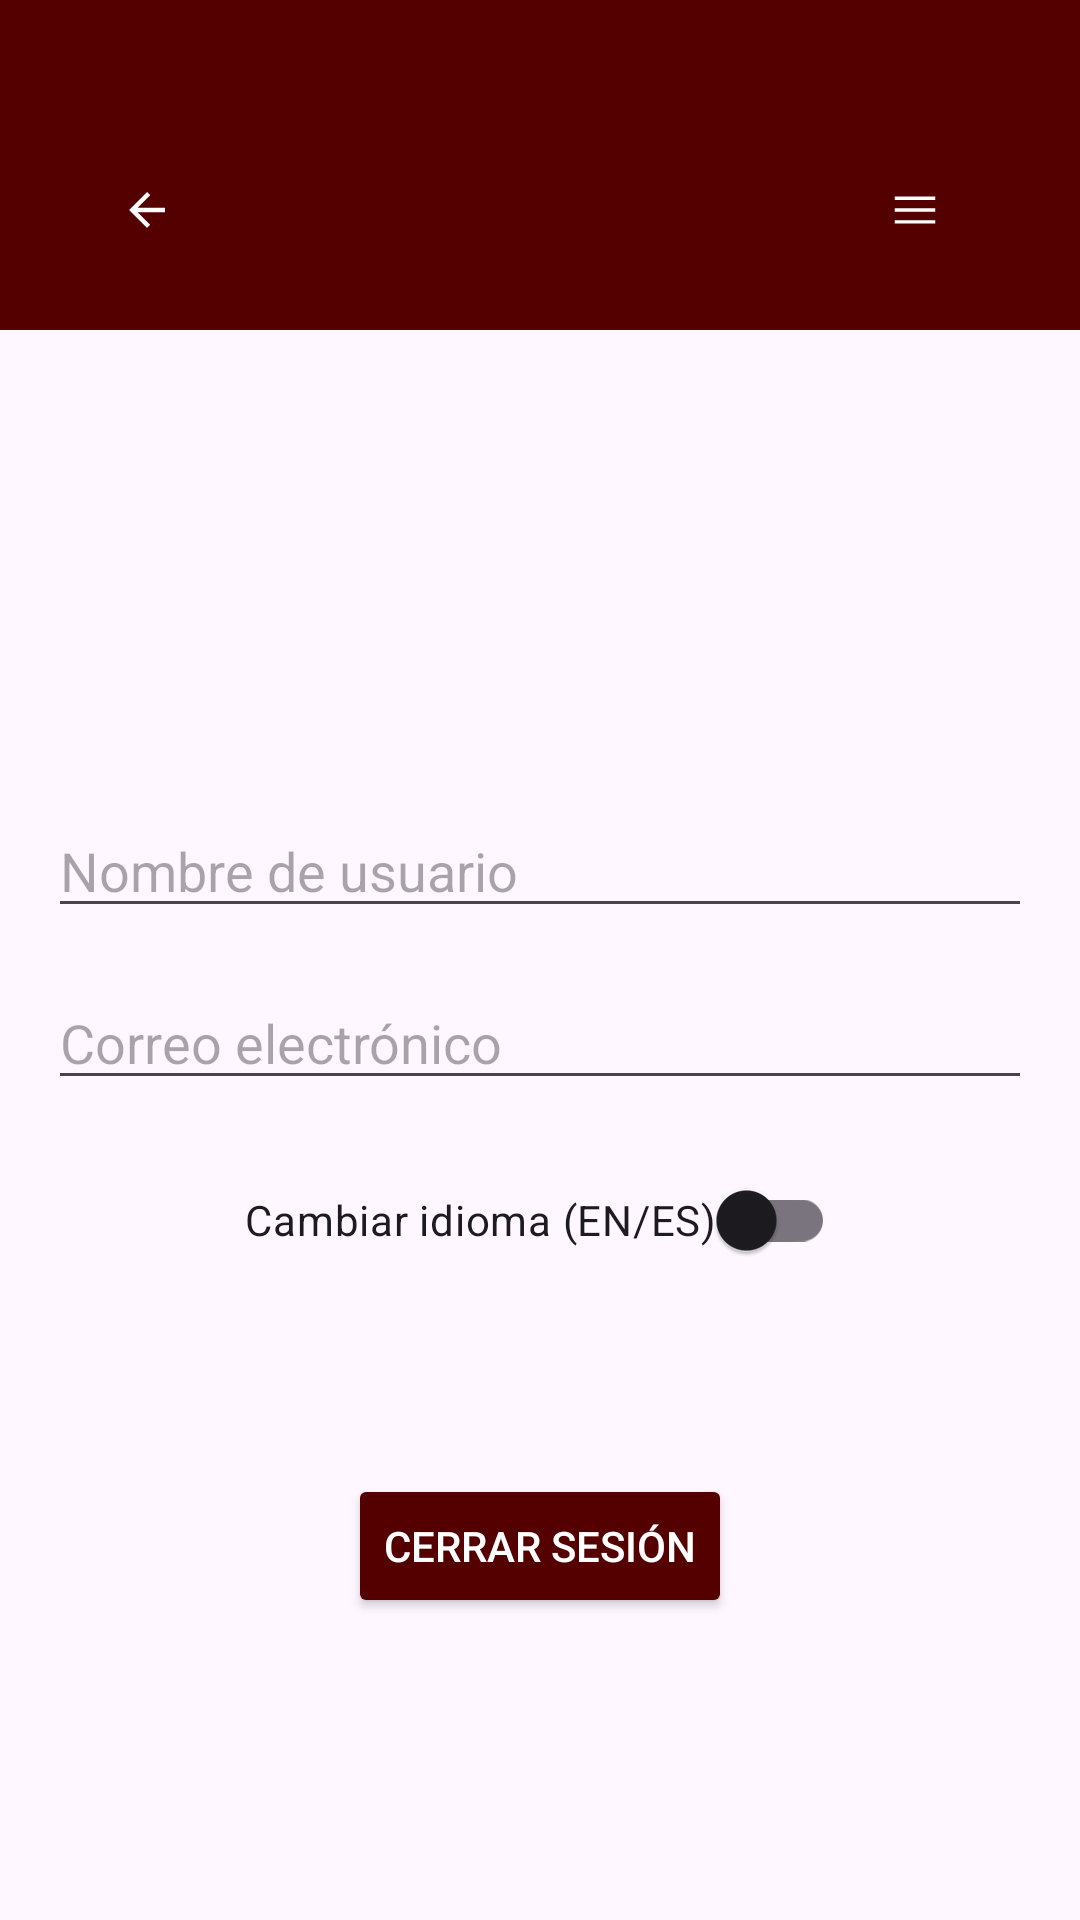

Named icons in this screenshot (1080×1920) and their centers, (x,y):
Menú: (915,210)
Volver: (147,210)
